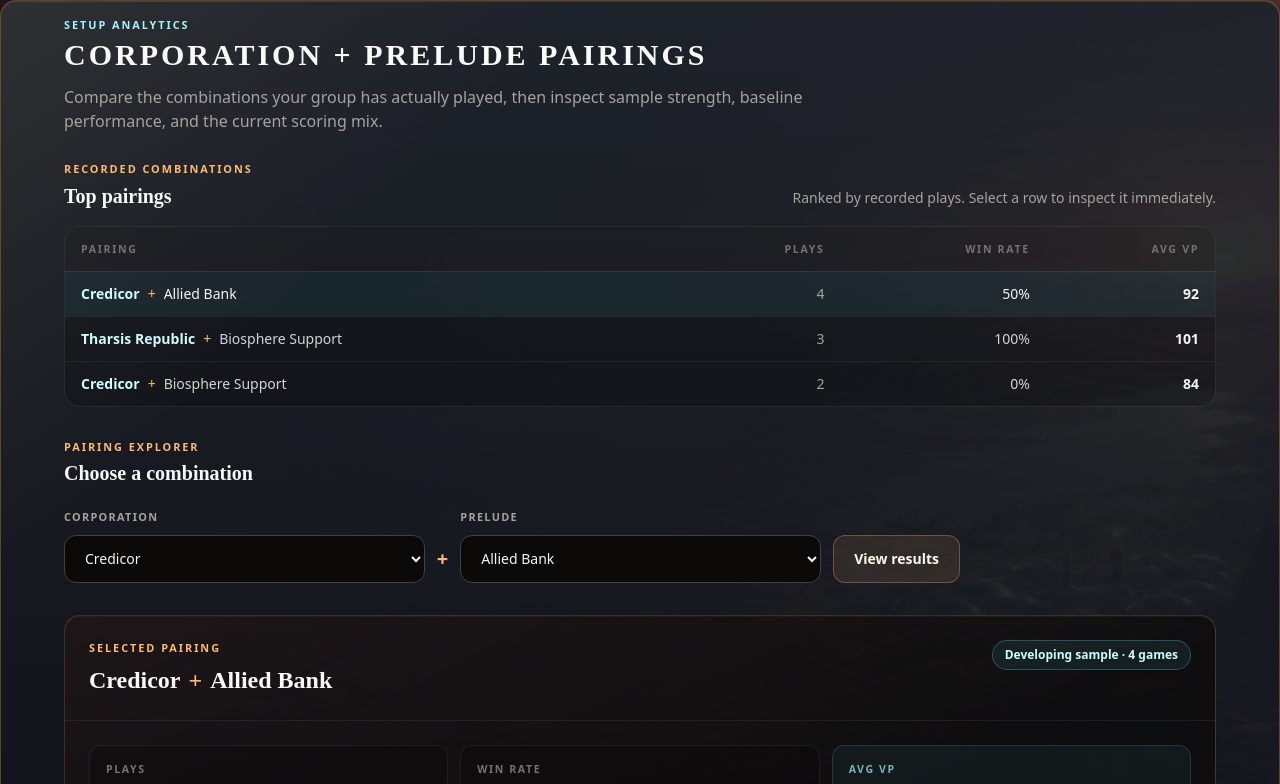
Test: CorporationPreludePairingsPanel › renders a compact ranking and applies a selected corporation and prelude
The width and height of the screenshot is (1280, 784).
Expected: the heading "Top pairings" is shown, [64,185,172,207]
Expected: the column heading "Avg VP" is shown, [1046,227,1215,271]
Select "Tharsis Republic" in the dropdown labelled "Corporation" at (244, 559), box [64,535,425,583]
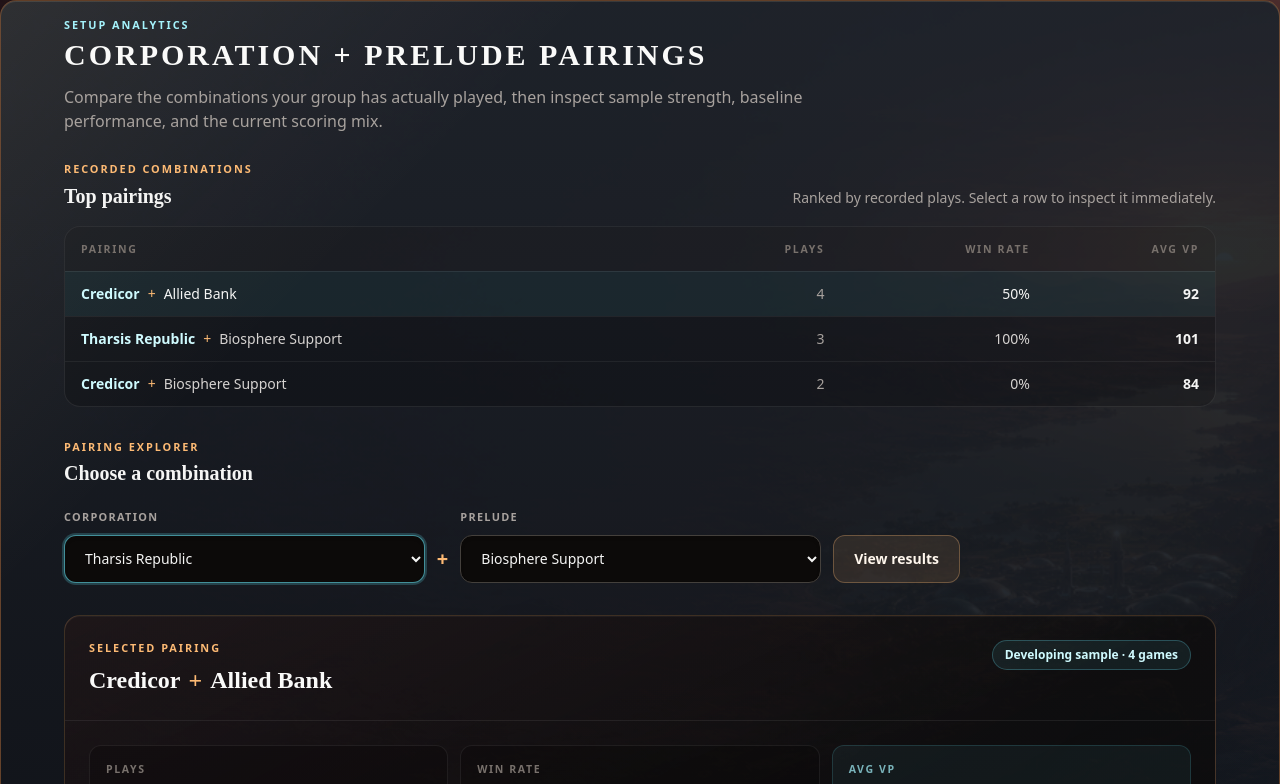
Select "Biosphere Support" in the dropdown labelled "Prelude" at (641, 559), box [460,535,821,583]
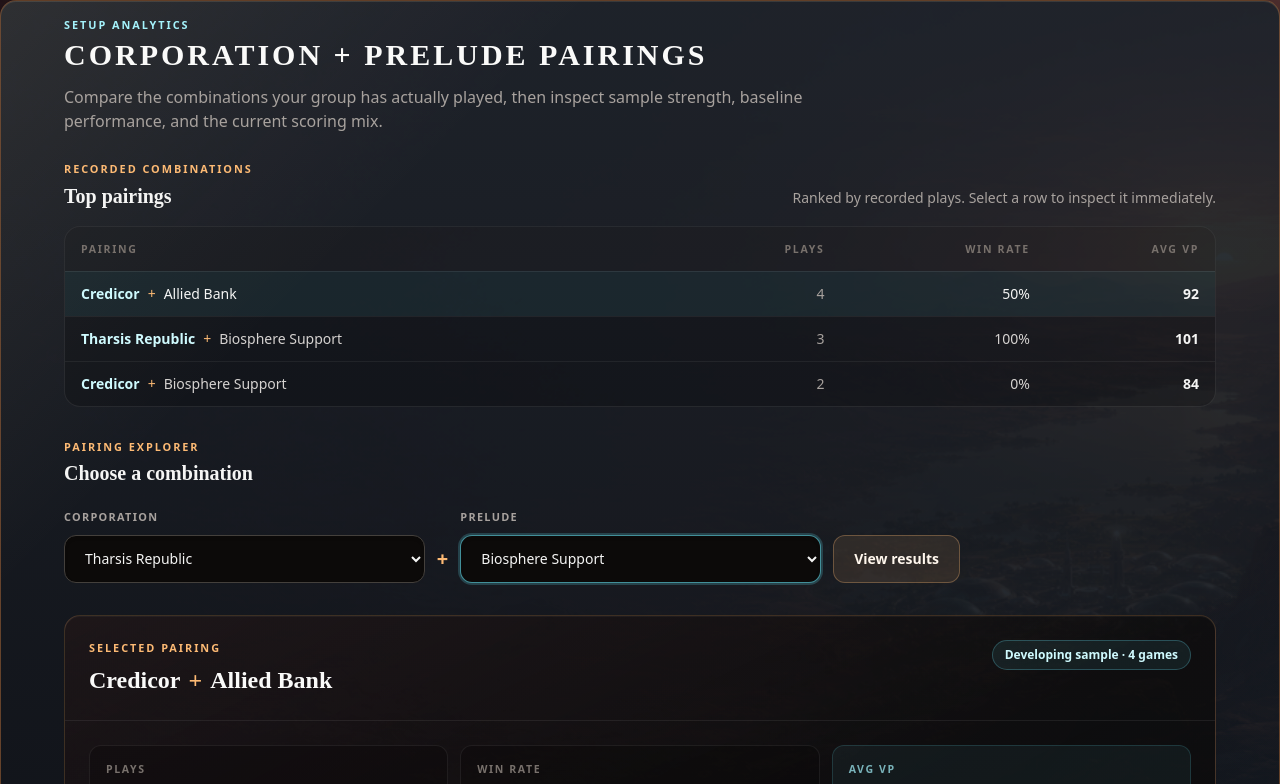
Click the button "View results".
click(897, 559)  # box [833,535,960,583]
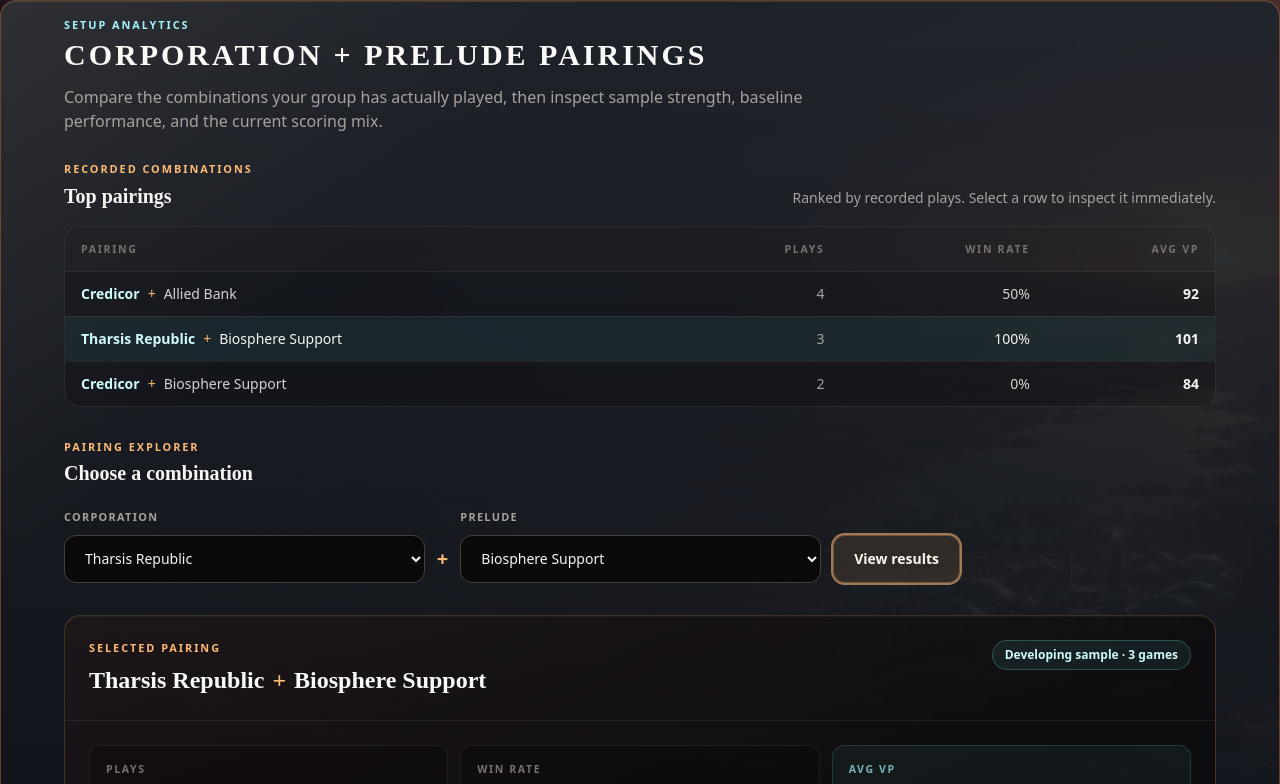
Expected: the heading "Tharsis Republic + Biosphere Support" is shown, [89,664,486,696]
Expected: the text "Developing sample · 3 games" is shown, [992,640,1191,670]
